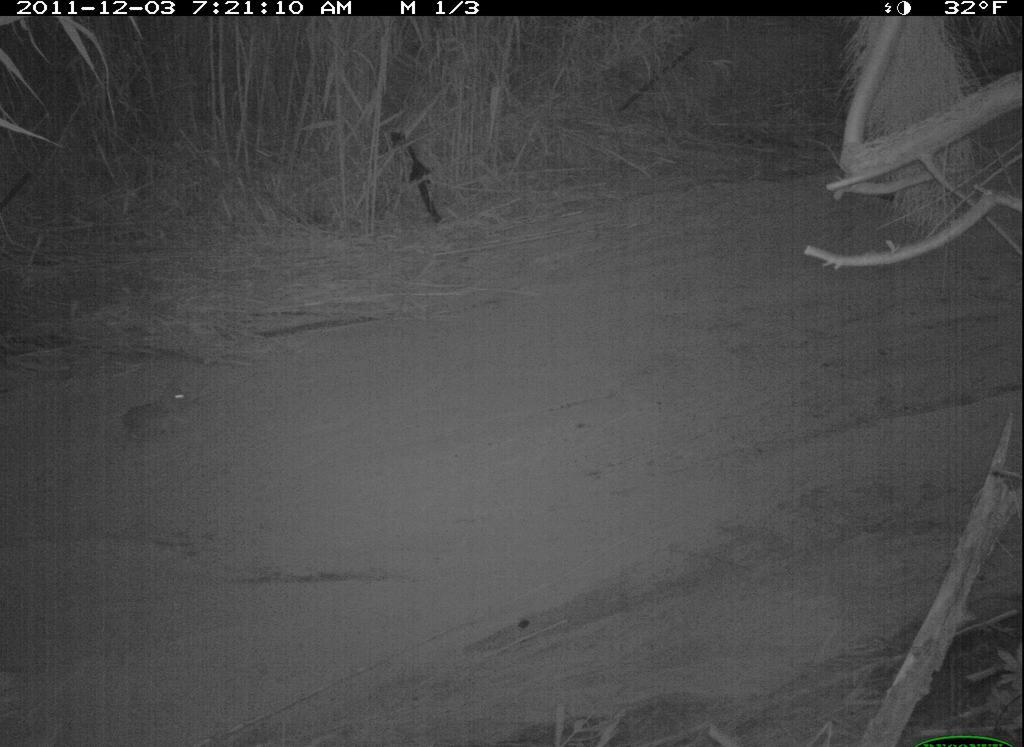rabbit: (120, 372, 198, 443)
